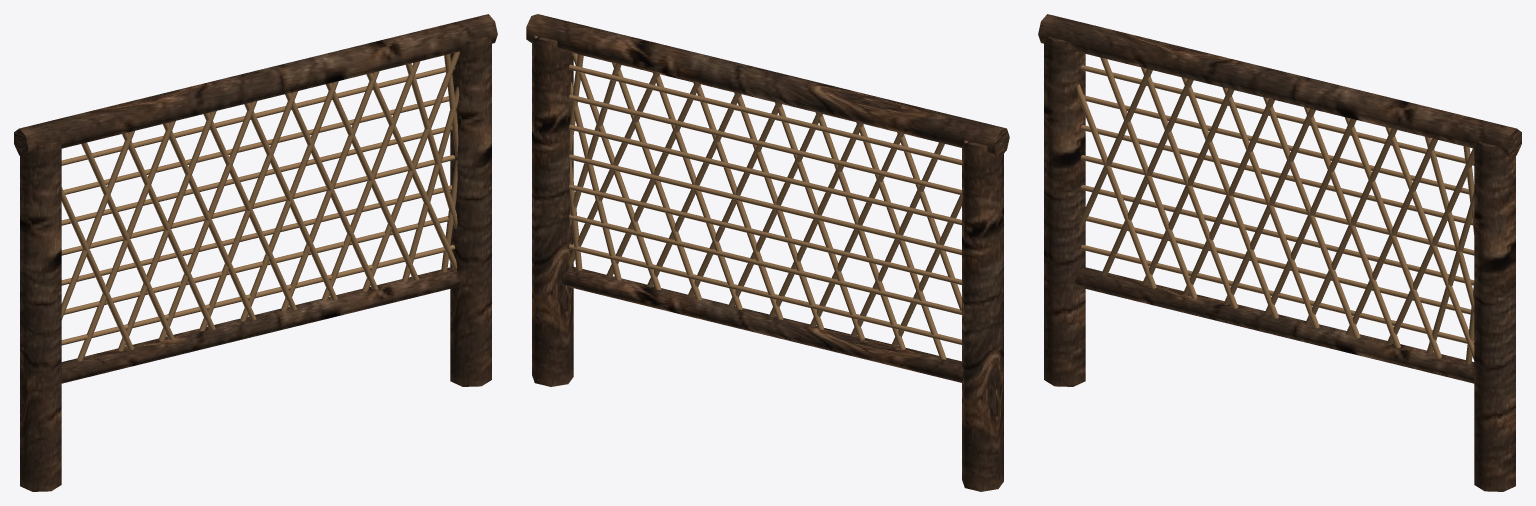
The model's file is net.glb.
The picture shows the model from 3 angles, left to right: view 1: azimuth 30°, elevation 25°; view 2: azimuth 150°, elevation 25°; view 3: azimuth 330°, elevation 25°; orthographic projection.
Parts seen in each view (by area): view 1: part_0, part_1; view 2: part_0, part_1; view 3: part_0, part_1.
Part boxes in pixels (x1,y1,x2,y2): part_0: [14, 14, 497, 491]; part_1: [61, 51, 459, 361]; part_0: [526, 14, 1009, 491]; part_1: [569, 53, 961, 359]; part_0: [1038, 14, 1521, 491]; part_1: [1077, 57, 1474, 364].
Bounding box in the file's own units: 1.21 × 0.8831 × 0.0912.
2 materials, 1 textured.
